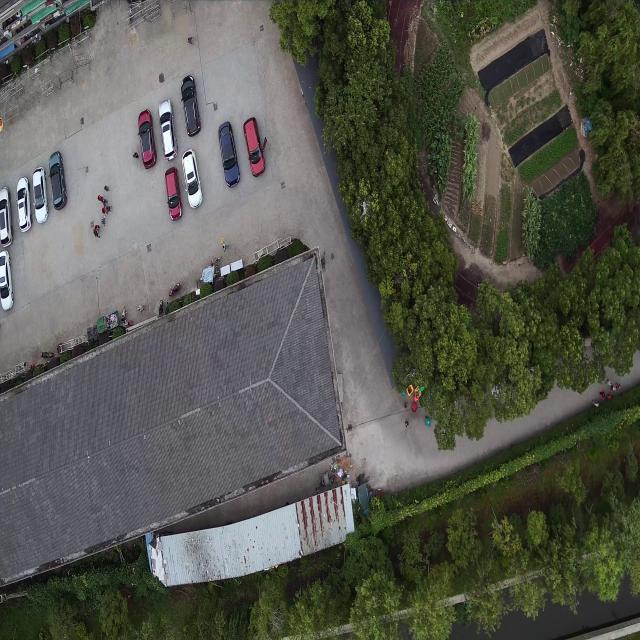UAV: (358, 200, 370, 218)
